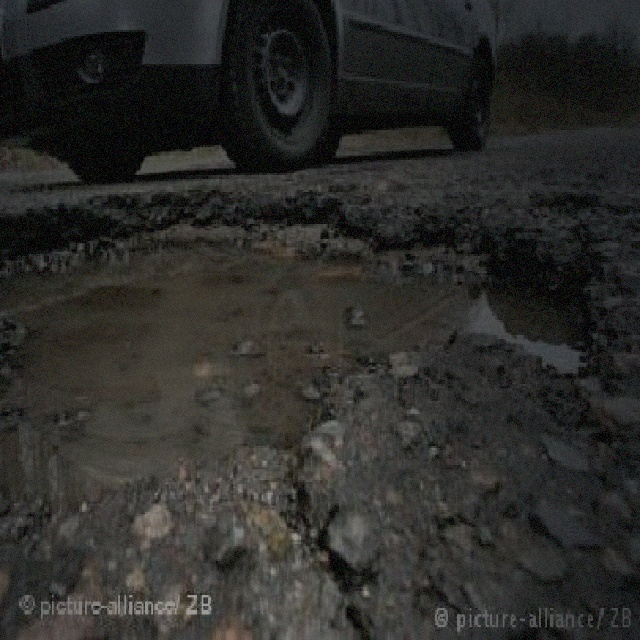pothole: (0, 177, 610, 544)
